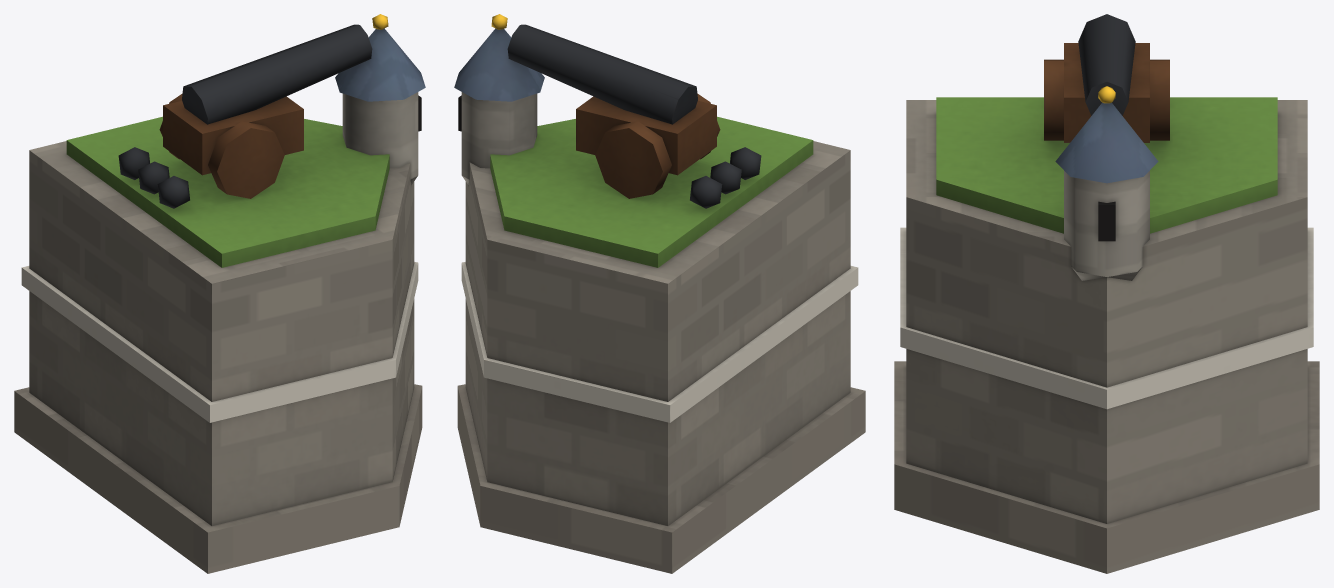
Rendered from fort_l4_post.glb.
3 renders of one model, left to right at view 1: azimuth 30°, elevation 25°; view 2: azimuth 150°, elevation 25°; view 3: azimuth 270°, elevation 25°, orthographic. The views are drawn at different scales.
Parts seen in each view (by area): view 1: fort_l4_post; view 2: fort_l4_post; view 3: fort_l4_post.
Part boxes in pixels (x1,y1,x2,y2): fort_l4_post: [14, 14, 425, 573]; fort_l4_post: [454, 14, 865, 573]; fort_l4_post: [894, 14, 1319, 573].
Bounding box in the file's own units: 0.2756 × 0.358 × 0.2968.
Materials: 1 (1 with a texture image).
